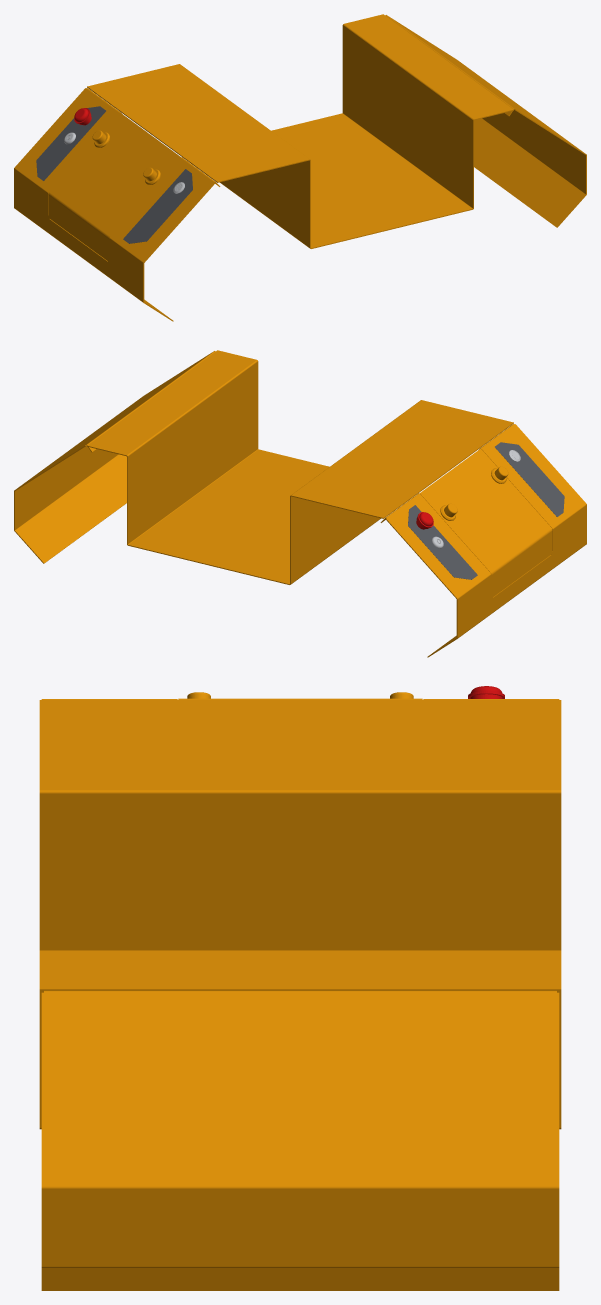
The model's file is a200_top_chassis.dae.
3 views of the same model, one above another, from view 1: azimuth 30°, elevation 25°; view 2: azimuth 150°, elevation 25°; view 3: azimuth 270°, elevation 25° (orthographic). The views are drawn at different scales.
Parts seen in each view (by area): view 1: chassis, panel_right, panel_left; view 2: chassis, panel_right, panel_left; view 3: chassis.
Boxes of the visible parts, box(x1,y1,x2,y2) form: chassis: box(14, 14, 586, 321); panel_right: box(123, 169, 192, 243); panel_left: box(36, 106, 105, 180); chassis: box(14, 350, 586, 657); panel_right: box(495, 442, 564, 516); panel_left: box(408, 505, 477, 579); chassis: box(39, 692, 561, 1290).
Bounding box in the file's own units: 0.812 × 0.4137 × 0.2264.
